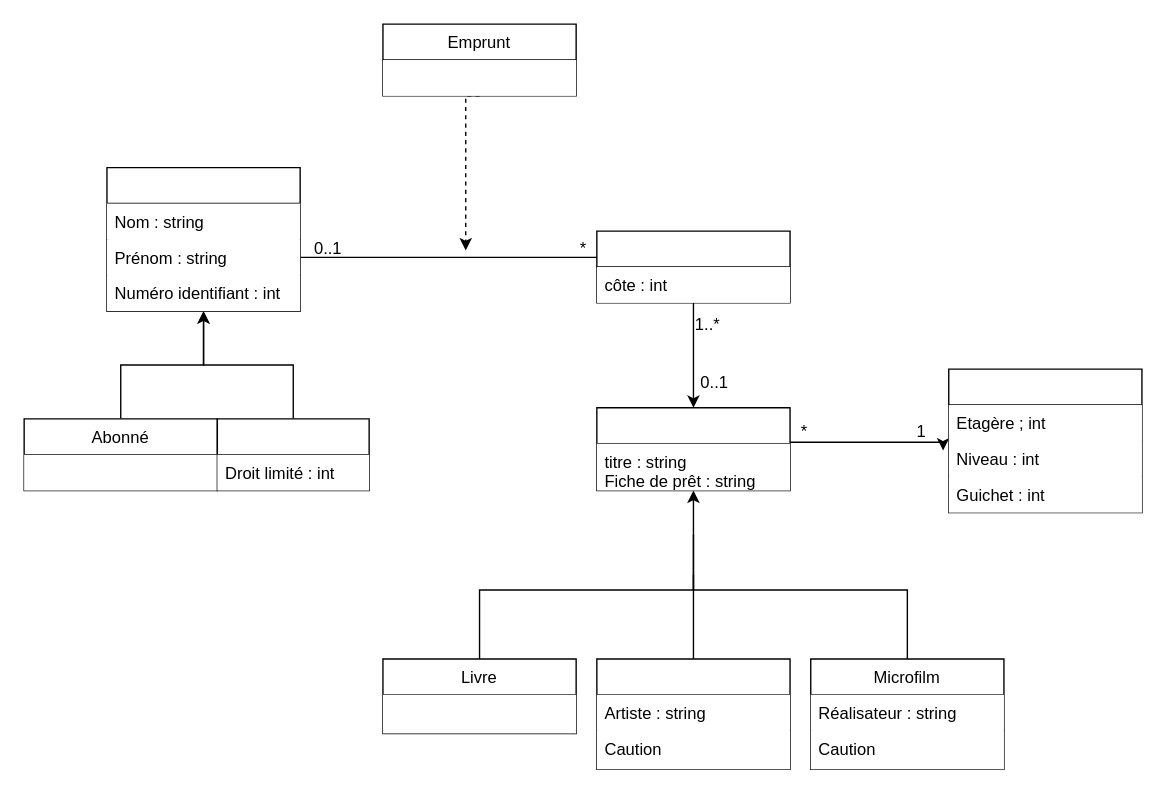
Some shapes in this 1166 by 798 pixel diagram are drawn without their labels. The box of each missing label's shape, as (x1, y1, x2, y2) in pixels:
Auteur : string: (382, 694, 575, 730)
Bénévoles: (216, 417, 369, 491)
CD: (595, 658, 790, 769)
Cotisation : int: (23, 454, 217, 490)
Emplacement: (947, 368, 1142, 513)
Exemplaire: (595, 230, 790, 303)
Ressource: (595, 406, 790, 491)
retour : Date: (382, 59, 575, 95)
Utilisateur: (106, 166, 300, 311)
